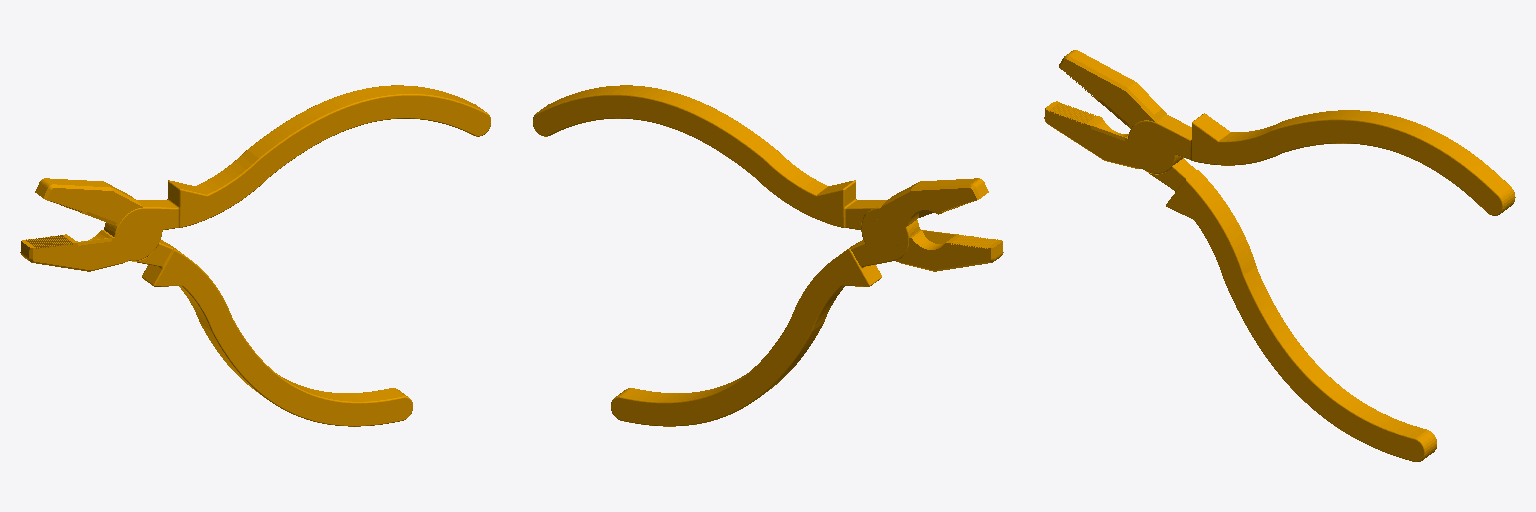
URDF robot description (plier_3_L0.88_T0.92):
<?xml version="1.0" encoding="utf-8"?>
<robot name="plier_3_L0.88_T0.92">
  <link name="plier_3_L0.88_T0.92Link">
    <contact>
      <lateral_friction value="1"/>
    </contact>
    <inertial>
      <origin rpy="0 0 0" xyz="0 0 0"/>
      <mass value="0.0"/>
      <inertia ixx="0" ixy="0" ixz="0" iyy="0" iyz="0" izz="0"/>
    </inertial>
    <visual>
      <origin rpy="0 0 0" xyz="0 0 0"/>
      <geometry>
        <mesh filename="generated_stl/plier/plier_3/plier_3_L0.88_T0.92/plier_3_L0.88_T0.92.stl" scale="0.01 0.01 0.01"/>
      </geometry>
    </visual>
    <collision>
      <origin rpy="0 0 0" xyz="0 0 0"/>
      <geometry>
        <mesh filename="generated_stl/plier/plier_3/plier_3_L0.88_T0.92/plier_3_L0.88_T0.92.stl" scale="0.01 0.01 0.01"/>
      </geometry>
    </collision>
  </link>
</robot>

--- What the picture shows (computed from the rendered views, not written in the file) ---
The picture shows the robot from 3 angles, left to right: view 1: azimuth 30°, elevation 25°; view 2: azimuth 150°, elevation 25°; view 3: azimuth 330°, elevation 25°; orthographic projection.
Robot: plier_3_L0.88_T0.92 — 1 links, 0 joints (none); root link plier_3_L0.88_T0.92Link; default pose: every joint at zero.
Visible links, largest first — view 1: plier_3_L0.88_T0.92Link; view 2: plier_3_L0.88_T0.92Link; view 3: plier_3_L0.88_T0.92Link.
Boxes of the visible links, left/top/right/bottom form: plier_3_L0.88_T0.92Link: left=20, top=85, right=490, bottom=426; plier_3_L0.88_T0.92Link: left=533, top=85, right=1003, bottom=426; plier_3_L0.88_T0.92Link: left=1044, top=50, right=1515, bottom=461.
Size in the robot's own frame: 0.0703 by 0.0034 by 0.0481 metres.
1 mesh visuals loaded from 1 distinct referenced files (1 binary STL).